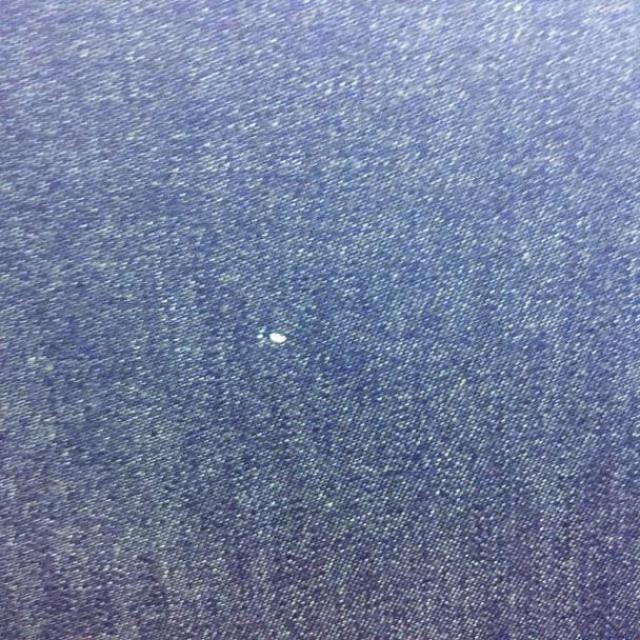Knot: (256, 328, 287, 346)
